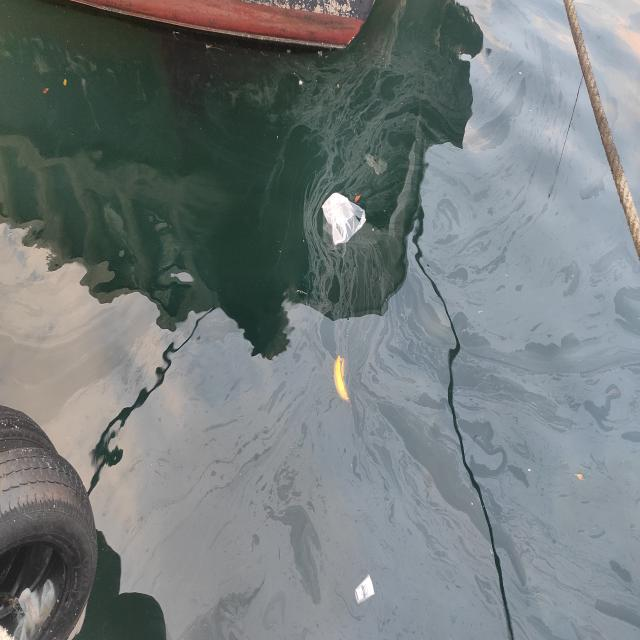Plastic bag: (320, 191, 367, 246), (364, 152, 388, 176)
Plastic cup: (354, 573, 376, 605)
